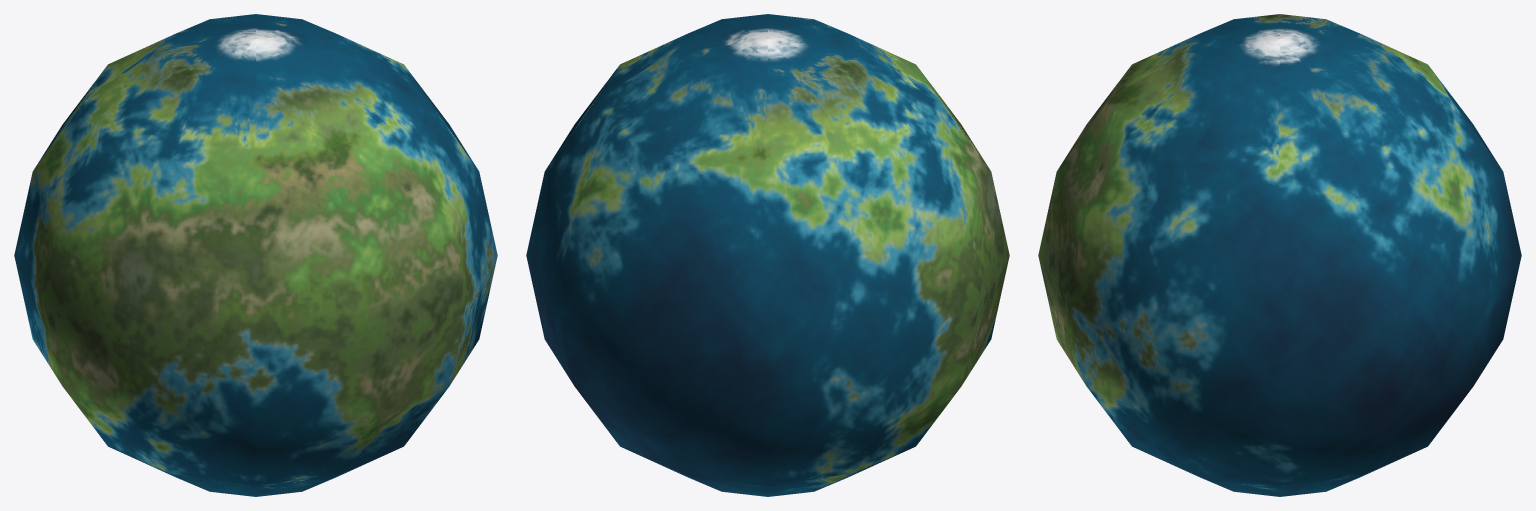
File: planet_Terrestrial1.obj
3 renders of one model, left to right at view 1: azimuth 30°, elevation 25°; view 2: azimuth 150°, elevation 25°; view 3: azimuth 270°, elevation 25°, orthographic.
Parts seen in each view (by area): view 1: Sphere; view 2: Sphere; view 3: Sphere.
Boxes of the visible parts, left/top/right/bottom form: Sphere: left=14, top=14, right=497, bottom=496; Sphere: left=526, top=14, right=1009, bottom=496; Sphere: left=1038, top=14, right=1521, bottom=496.
Size of the model in its own units: 2 by 1.98 by 2.
1 material, 1 textured.
